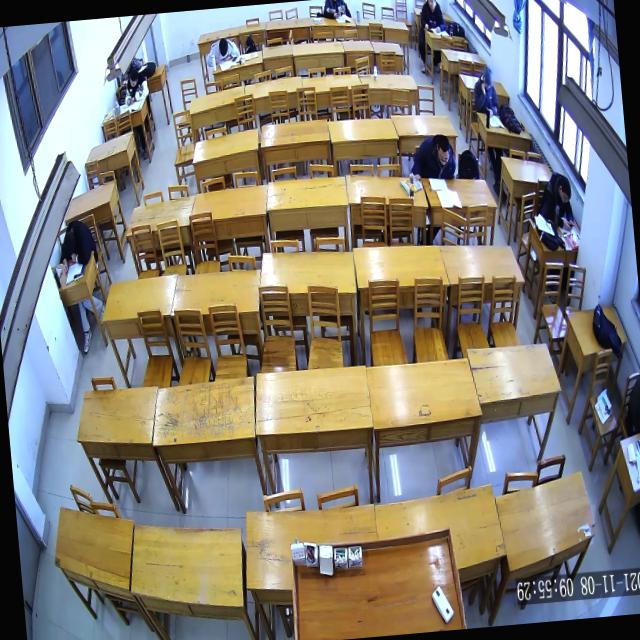bow: (203, 36, 240, 68)
down: (436, 136, 450, 166), (558, 175, 572, 204), (64, 231, 78, 255), (482, 66, 494, 90), (128, 68, 139, 88), (218, 38, 229, 56)
sit: (408, 132, 456, 182), (537, 170, 575, 233), (58, 219, 98, 272), (471, 65, 499, 117), (122, 67, 150, 106), (418, 0, 446, 33), (215, 54, 236, 72), (231, 54, 238, 62)
